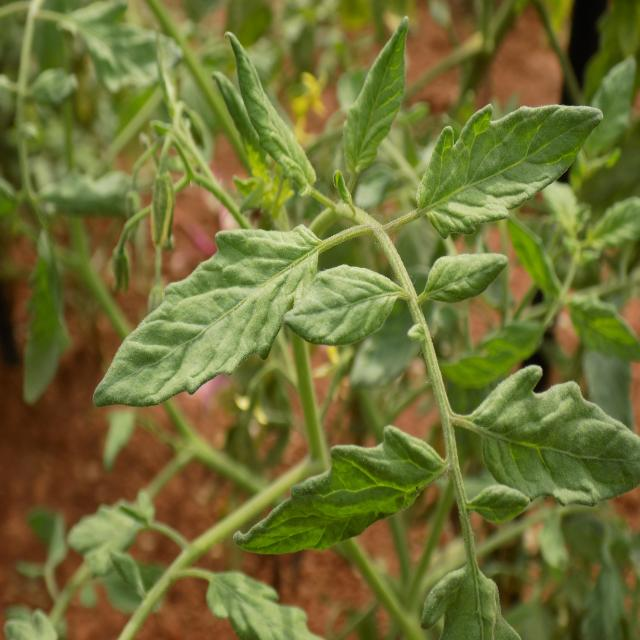tomato_healthy: (93, 221, 323, 417), (238, 421, 448, 565), (455, 356, 640, 519), (413, 90, 608, 228), (289, 254, 396, 352), (424, 247, 514, 308)
